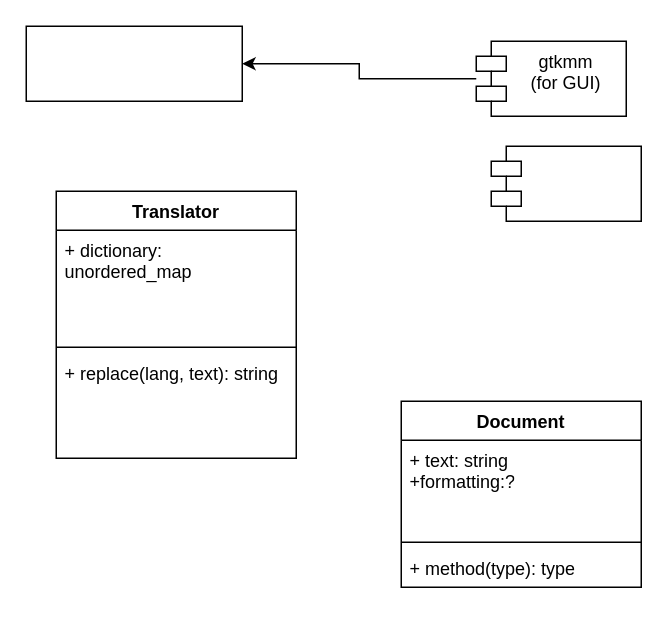
The diagram is 668 pixels wide and 618 high, and some of its shapes have lost their labels. Each missing label, with the centre of its shape:
pdf parser: pixel 565 183
«interface» DragnDrop: pixel 133 63
